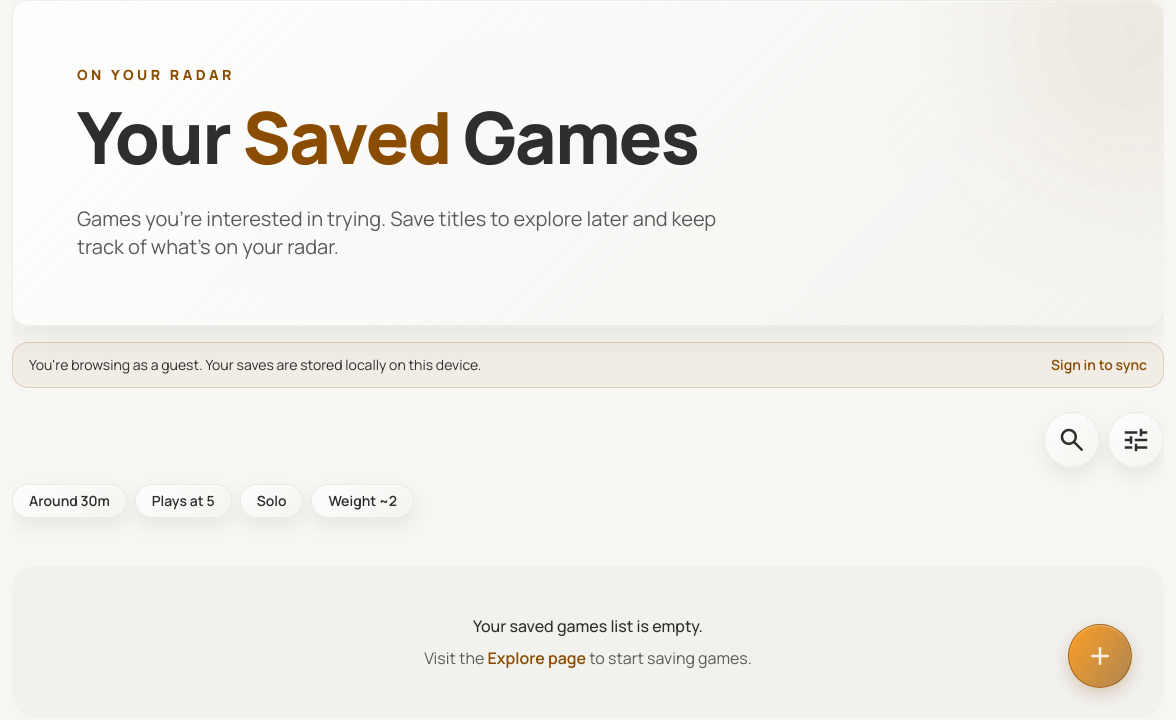
SavedPage › routes guest sign-in prompts through sign-in overlay state
Click the link "Sign in to sync": (1099, 365) x1=1051 y1=355 x2=1147 y2=375
(page scrolled)
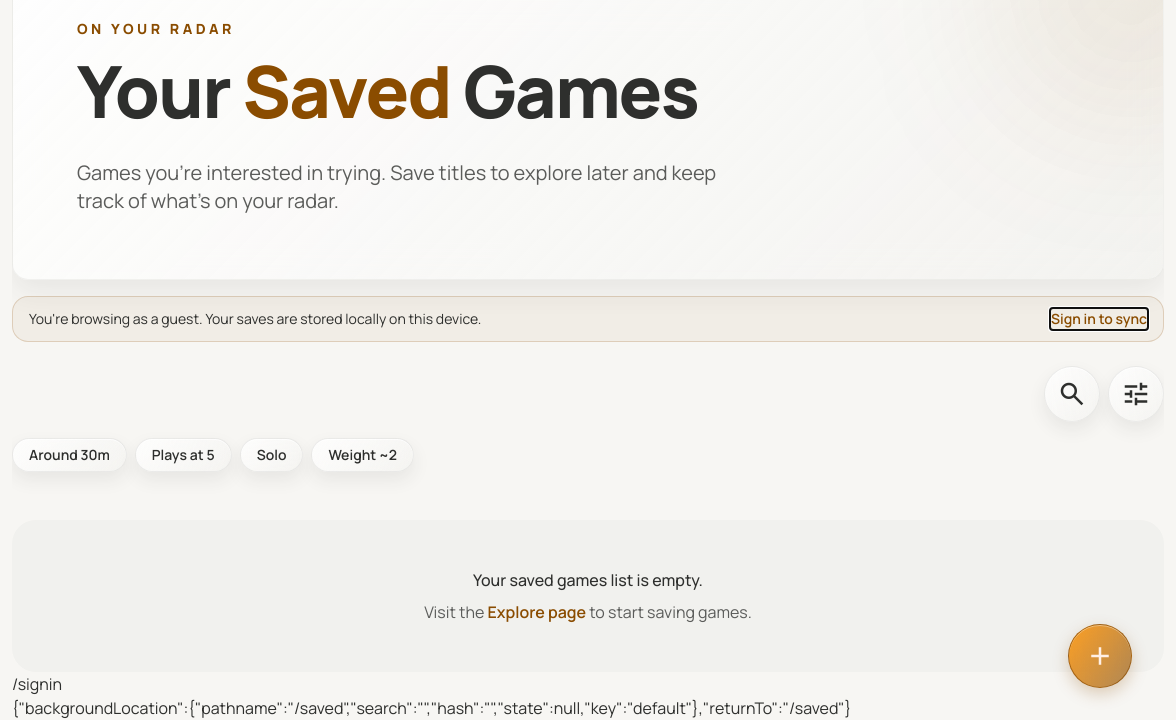
Expected: the text with test id "location-pathname" reads "/signin", x1=12 y1=673 x2=62 y2=695
Expected: the text with test id "location-state" shows "\"pathname\":\"/saved\"", x1=12 y1=697 x2=851 y2=719
